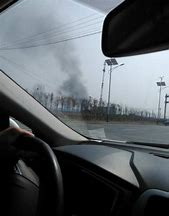smoke: (39, 21, 94, 104)
